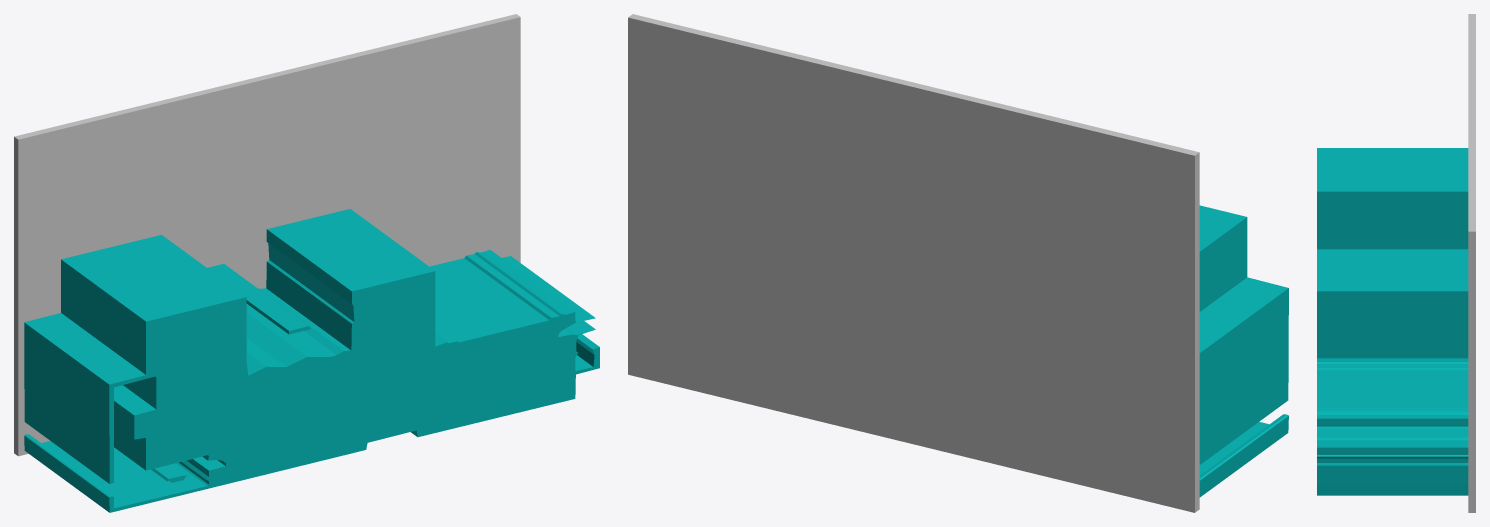
3 renders of one model, left to right at view 1: azimuth 30°, elevation 25°; view 2: azimuth 150°, elevation 25°; view 3: azimuth 270°, elevation 25°, orthographic. The views are drawn at different scales.
Visible parts, largest first — view 1: world; view 2: world; view 3: world.
Boxes of the visible parts, x1=… form: world: x1=14, y1=14, x2=599, y2=512; world: x1=628, y1=14, x2=1288, y2=512; world: x1=1317, y1=14, x2=1475, y2=512.
Size of the model in its own units: 10.23 by 6.16 by 3.15.
